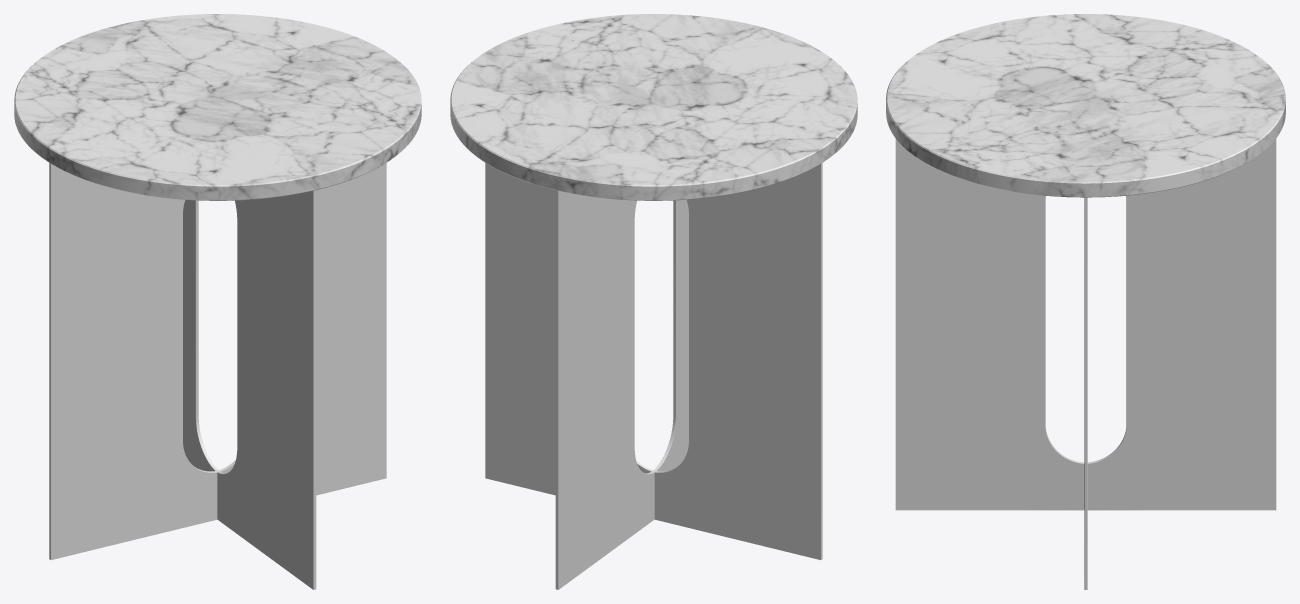
File: androgyne.gltf
3 views of the same model, side by side, from view 1: azimuth 30°, elevation 25°; view 2: azimuth 150°, elevation 25°; view 3: azimuth 270°, elevation 25° (orthographic).
Visible parts, largest first — view 1: Mesh; view 2: Mesh; view 3: Mesh.
Boxes of the visible parts, bbox=[...] form: Mesh: bbox=[14, 14, 421, 589]; Mesh: bbox=[450, 14, 857, 589]; Mesh: bbox=[886, 14, 1285, 589].
Bounding box in the file's own units: 0.42 × 0.477 × 0.42.
1 material, 1 textured.
